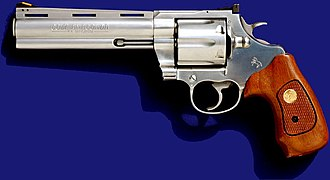Revolver: (3, 0, 328, 167)
